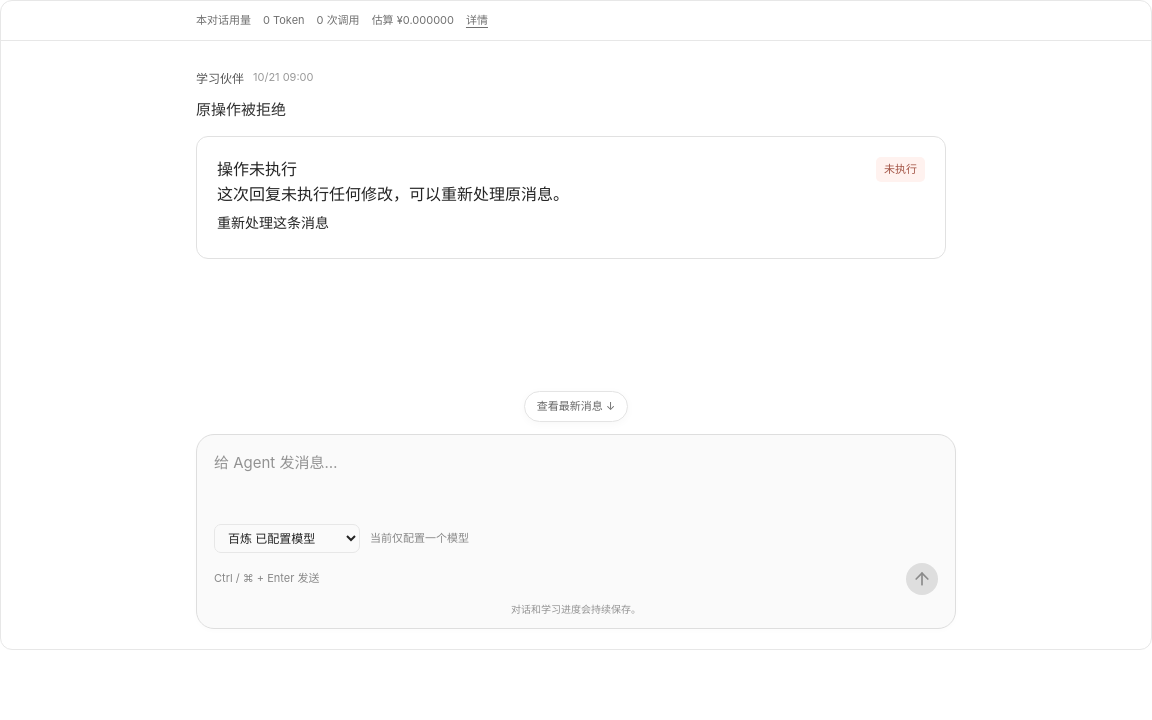
direct Agent conversation › lets the user retry a fully blocked historical reply without sending a new message
Click the button "重新处理这条消息" at (273, 223), box [217,208,329,238]
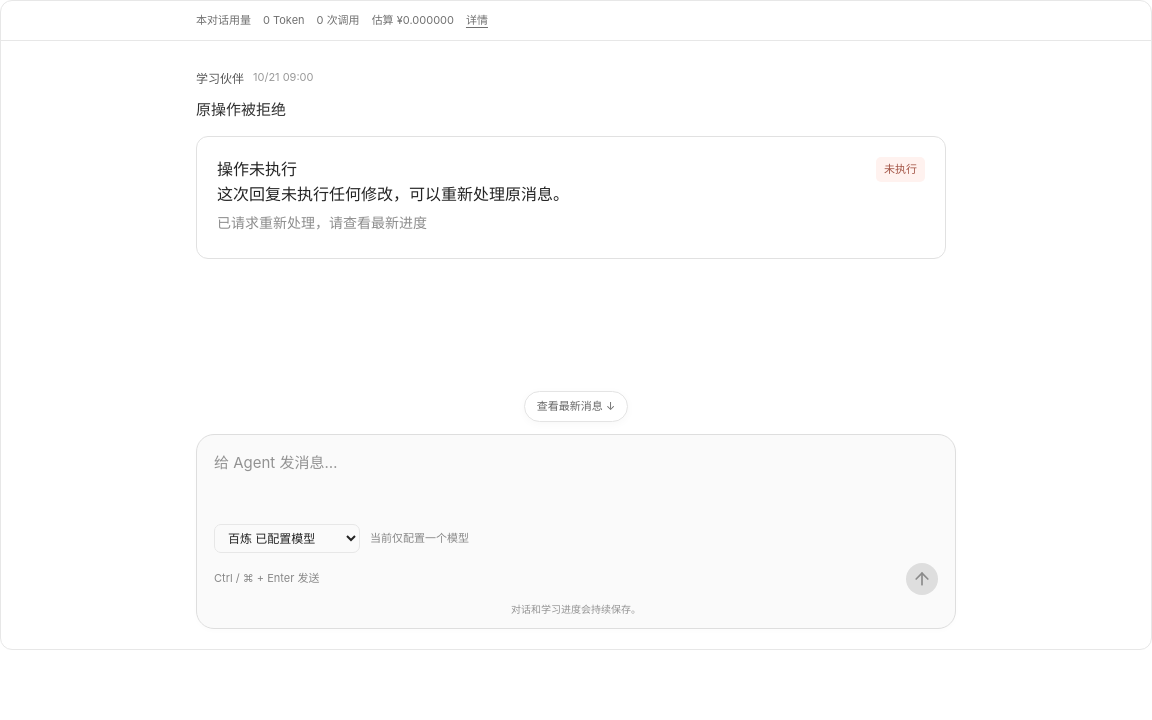
Expected: the button "已请求重新处理，请查看最新进度" is disabled, [217,208,427,238]
